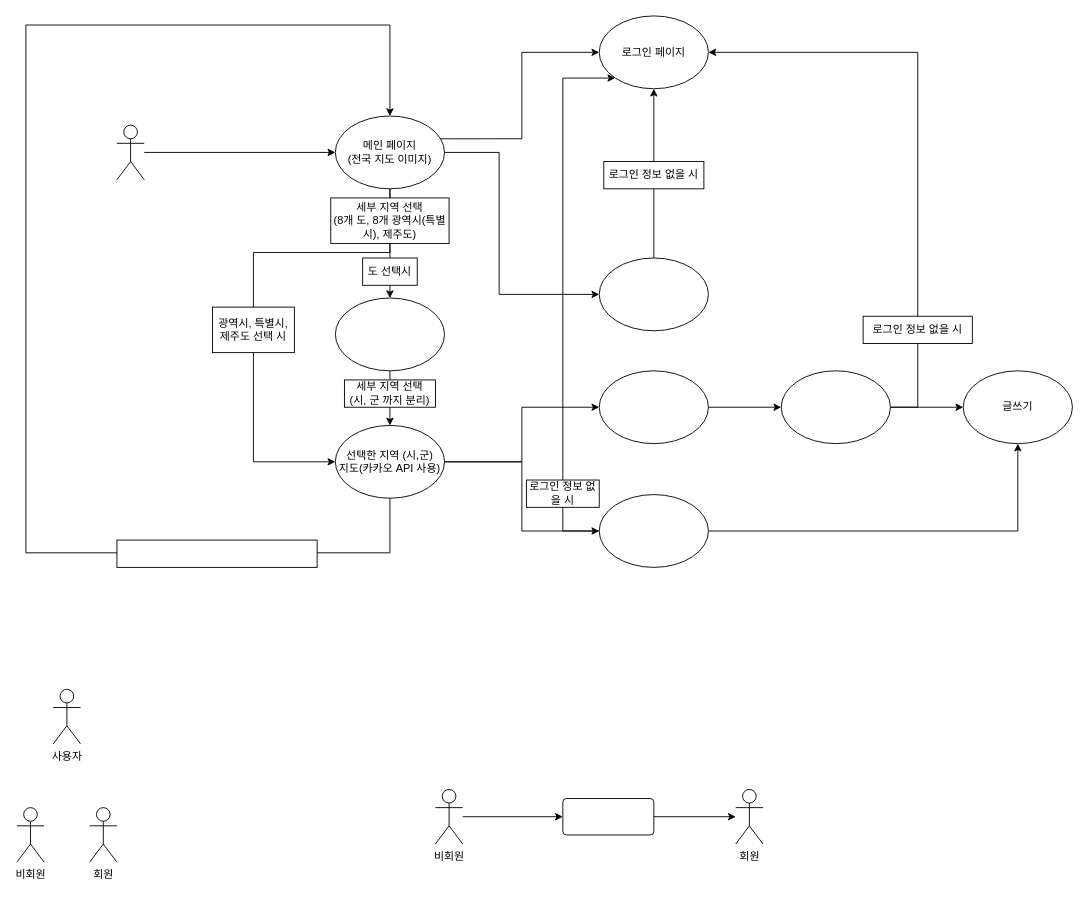
The diagram is 1088 pixels wide and 897 high, and some of its shapes have lost their labels. The shapes that lost their labels are listed below. From the top down, each one's centre as x and y in pixels, then its label:
At (130,152): "Actor".
At (653,294): "마이페이지".
At (389,334): "세부 지도 이미지".
At (653,407): "마크(관광지) 선택".
At (835,407): "해당 관광지의 게시글 구경".
At (653,530): "새로운 마크(관광지) 생성".
At (216,553): "왼쪽 위 아이콘(메인 아이콘) 선택".
At (608,816): "로그인".
